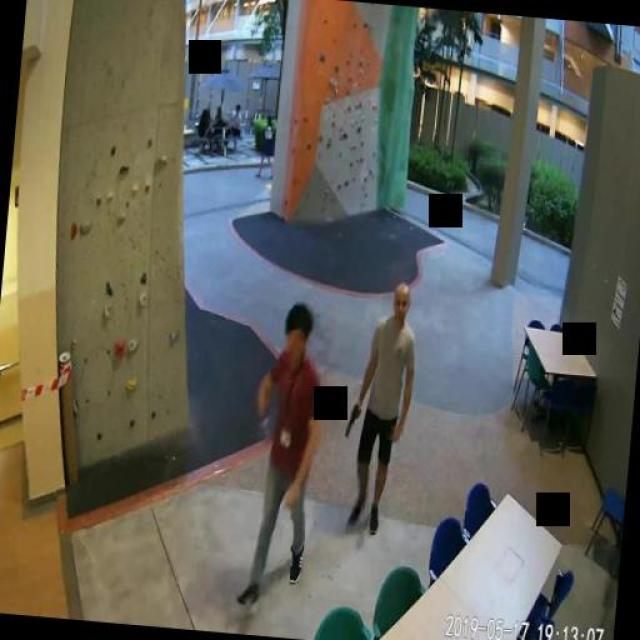gun: (345, 399, 360, 436)
